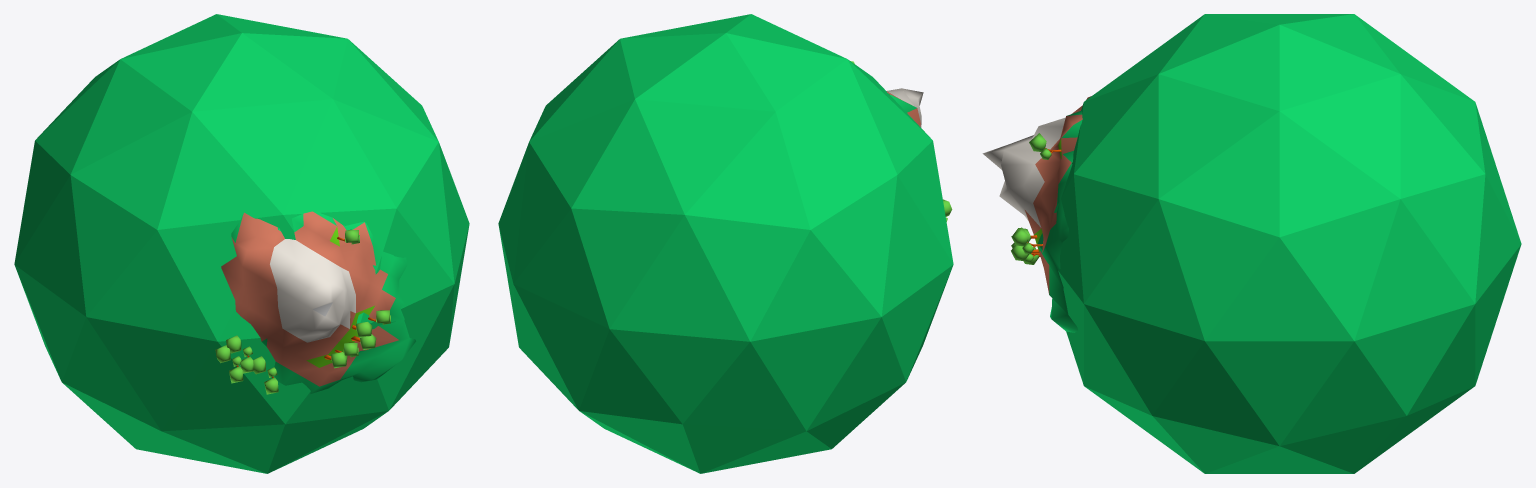
The model's file is 2016.04.08_low_poly_planet 1.fbx.
The picture shows the model from 3 angles, left to right: view 1: azimuth 30°, elevation 25°; view 2: azimuth 150°, elevation 25°; view 3: azimuth 270°, elevation 25°; orthographic projection. The views are drawn at different scales.
Parts seen in each view (by area): view 1: Icosphere.001; view 2: Icosphere.001; view 3: Icosphere.001.
Boxes of the visible parts, x1,y1,x2,y2 form: Icosphere.001: (14, 14, 469, 473); Icosphere.001: (498, 14, 953, 473); Icosphere.001: (982, 14, 1521, 473).
Size of the model in its own units: 1015 by 1067 by 1189.
